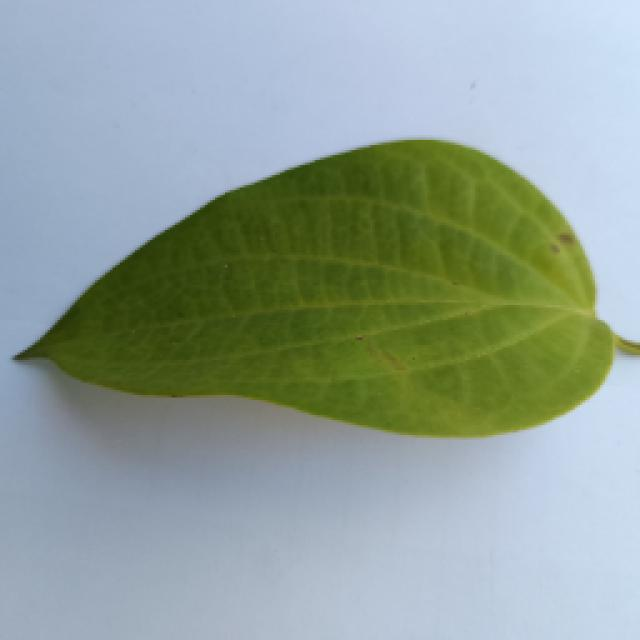slow-decline: (10, 138, 622, 432)
